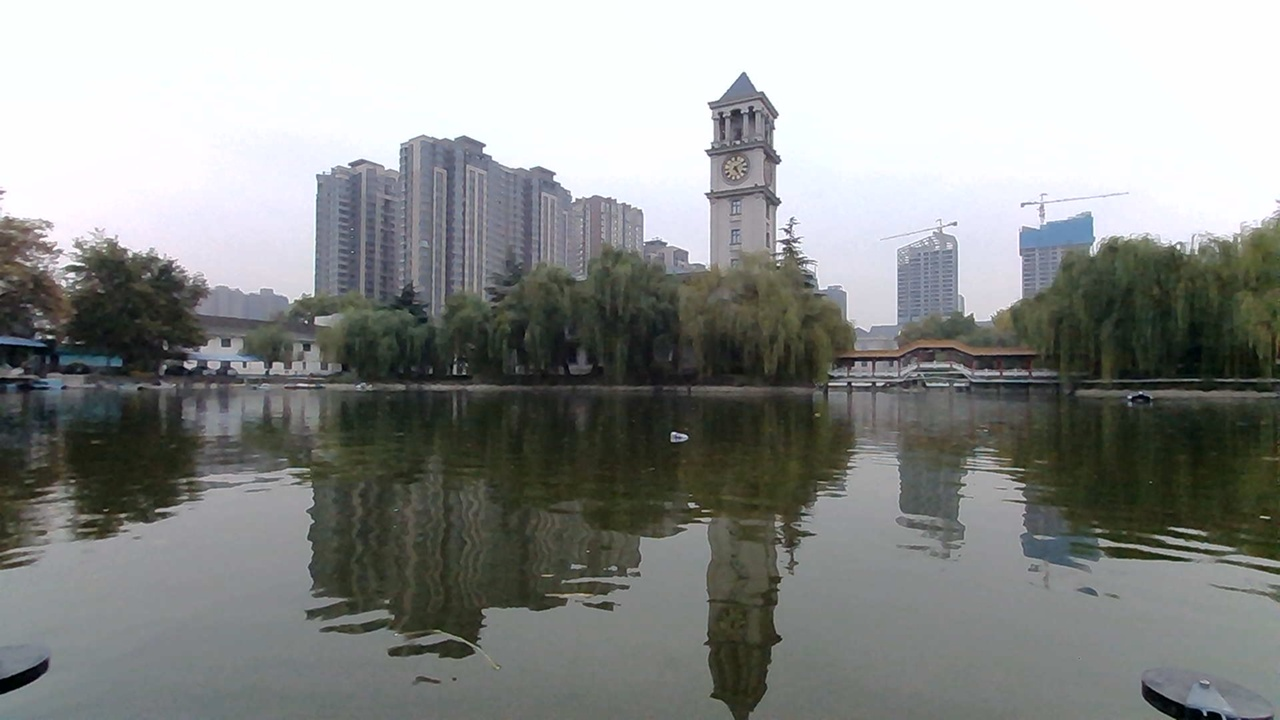bottle: (664, 424, 716, 462)
